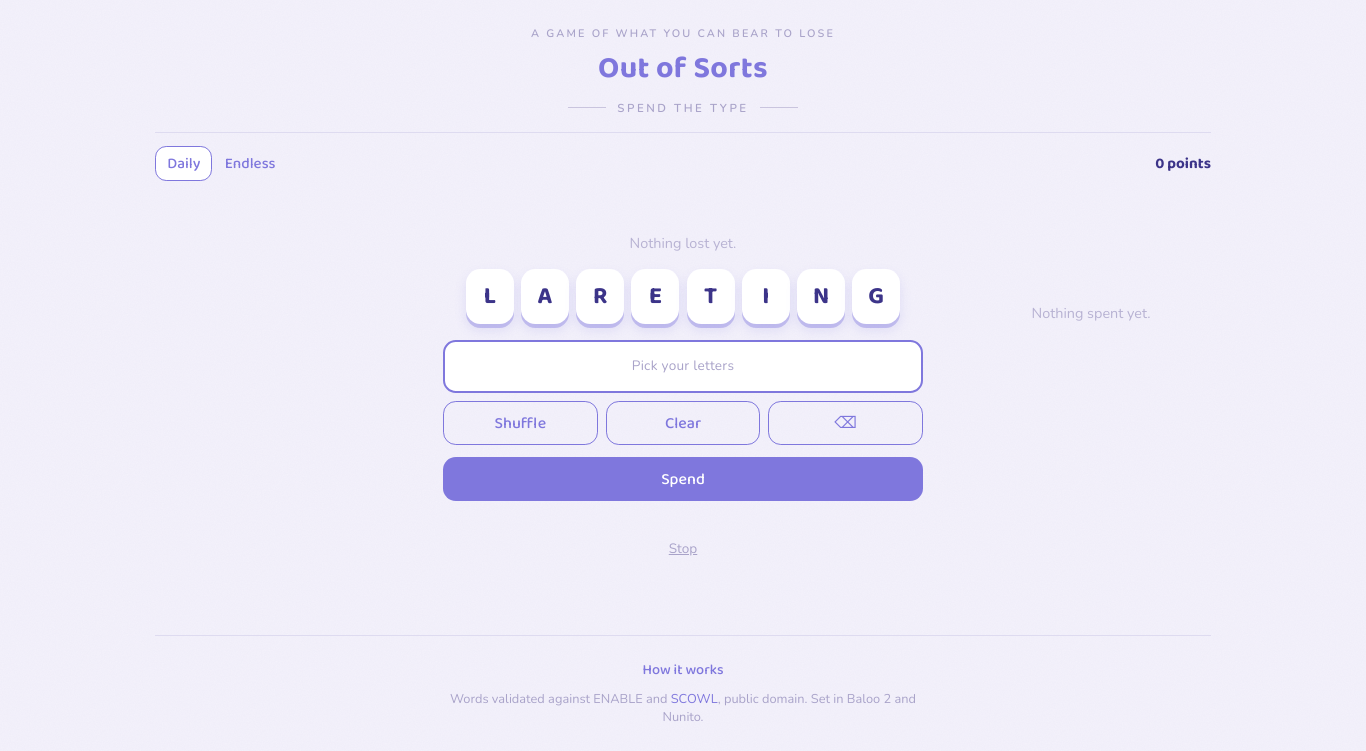
the streak tells the truth on load › finishing a run never lowers what the header shows
Check: the element that starts with "Nothing lost yet." is shown, box [443,233,1150,571]
Step 1. Press Escape
Step 2. Type keys "triangle{Enter}"
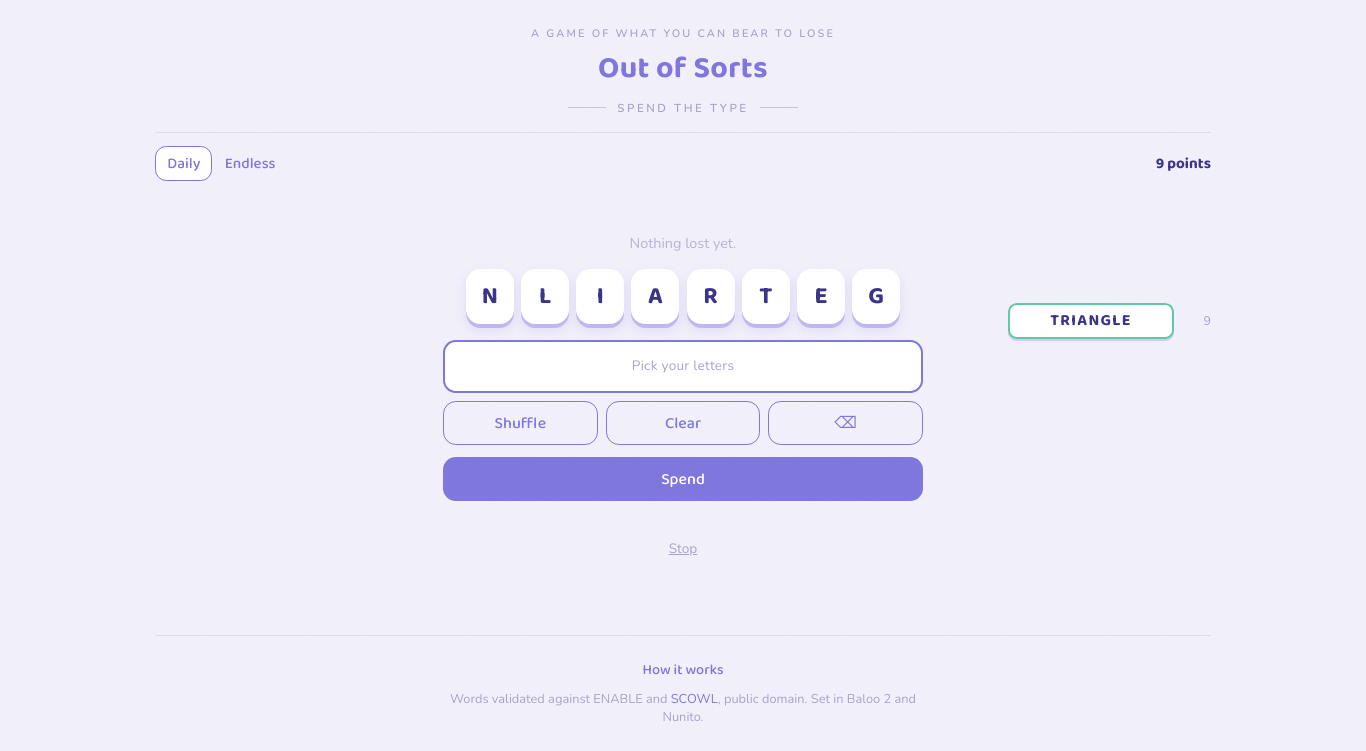
Step 3. Click the button "Stop" → (683, 549), box [653,527,713,571]
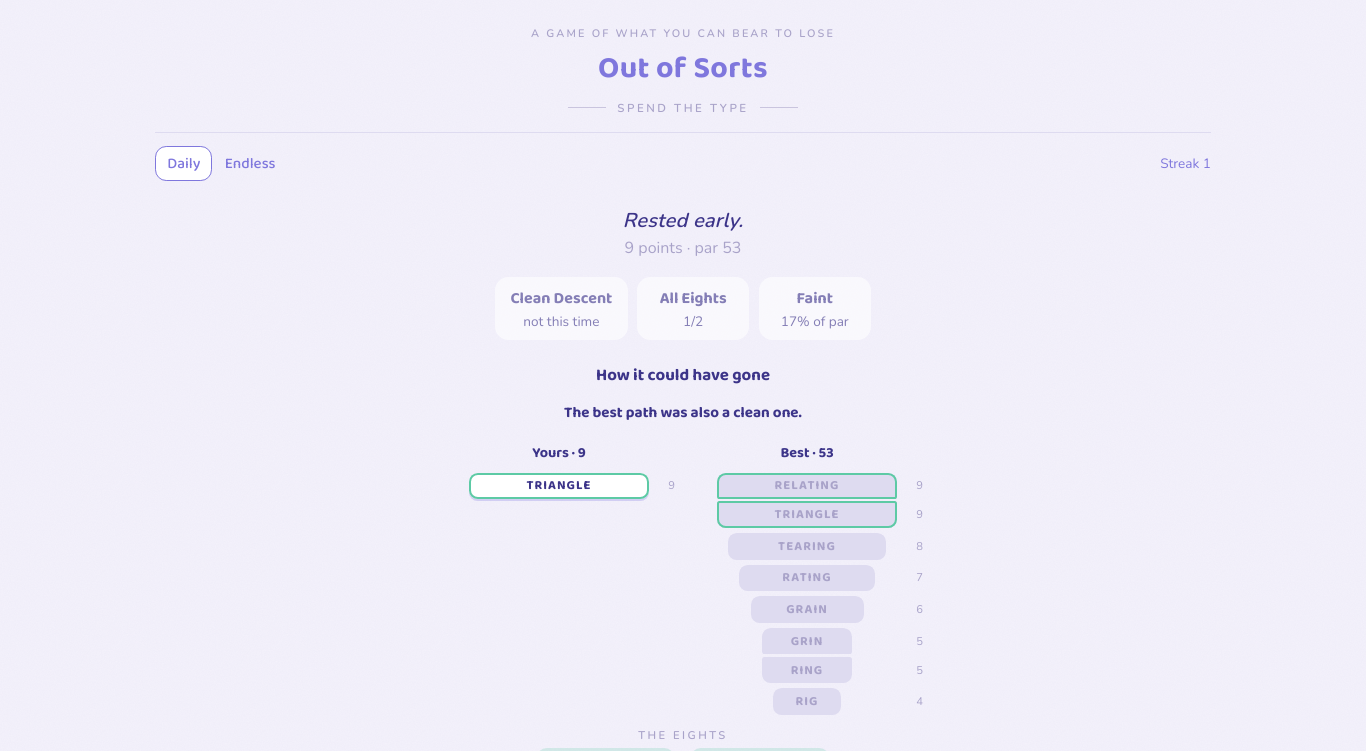
Check: the element with test id "streak" does not show "3"
Check: the text with test id "streak" shows "1", box [1203,154,1211,173]
